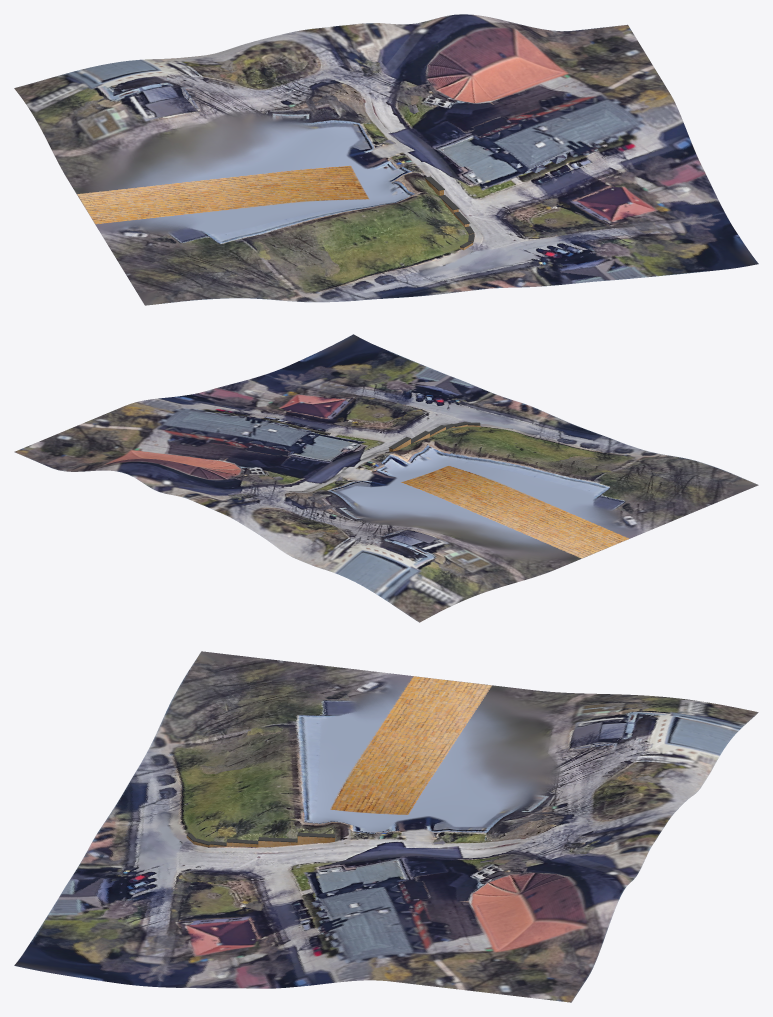
File: AbbeanumGround.glb
The picture shows the model from 3 angles, top to bottom: view 1: azimuth 30°, elevation 25°; view 2: azimuth 150°, elevation 25°; view 3: azimuth 270°, elevation 25°; orthographic projection. The views are drawn at different scales.
Visible parts, largest first — view 1: Plane.001, Cube.003; view 2: Plane.001, Cube.003; view 3: Plane.001, Cube.003.
Boxes of the visible parts, <box> form: Plane.001: <box>14,14,758,305</box>; Cube.003: <box>424,176,474,250</box>; Plane.001: <box>14,334,758,622</box>; Cube.003: <box>388,421,480,451</box>; Plane.001: <box>14,651,758,1002</box>; Cube.003: <box>186,832,335,847</box>.
Size of the model in its own units: 106 by 9.69 by 94.94.
Materials: 2 (1 with a texture image).
